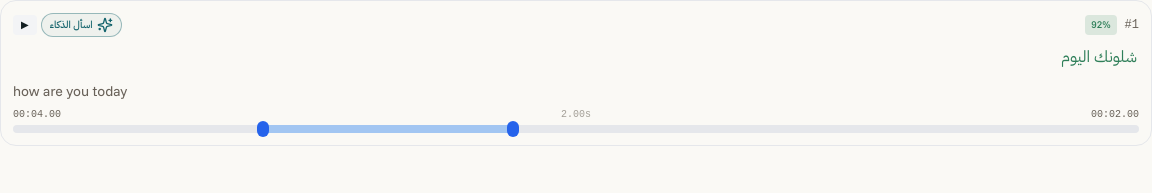
Scenario: editing the translation › opens on a click and starts from what is there
What coordinates should you click on to do the following:
click the button titled "Click to edit translation"
I would click on:
 (70, 91)
Its box is [9,79,1143,103].
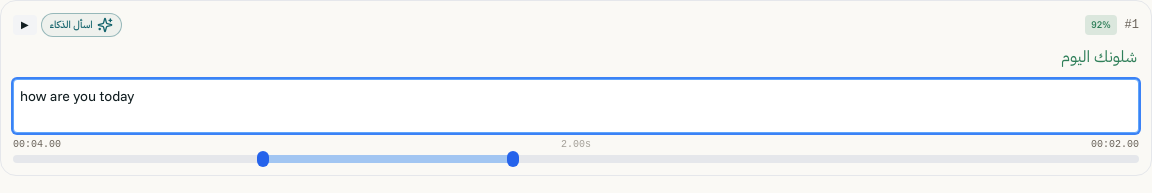
Check: the text box holds "how are you today", box [13,79,1139,133]
